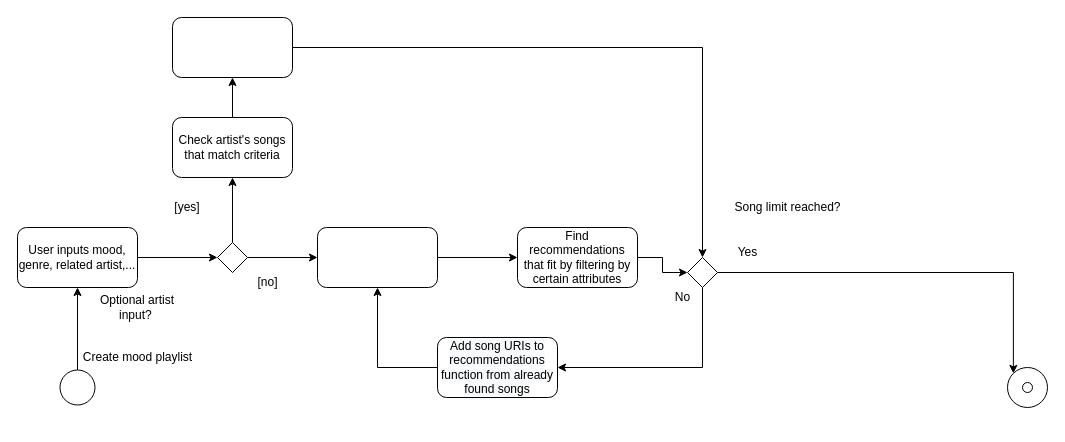
This 1065x442 diagram has some shape labels left out. The shapes that lost their labels are listed below. From the top down, each one's centre as x and y in pixels, then its label:
At (232,47): "Call recommendations function for related songs".
At (377,257): "Call recommendations function with criteria".
